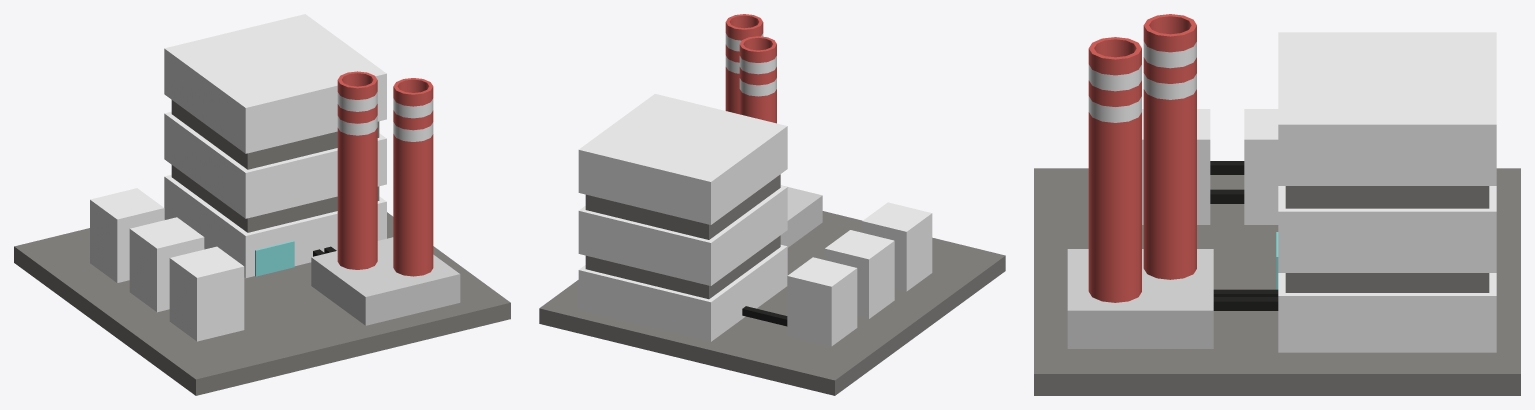
File: power2.glb
3 views of the same model, side by side, from view 1: azimuth 30°, elevation 25°; view 2: azimuth 150°, elevation 25°; view 3: azimuth 270°, elevation 25° (orthographic). The views are drawn at different scales.
Parts seen in each view (by area): view 1: Cube, Cube_3, Cube_2, Pipe, Pipe__1_, Power_Generation_Thing, Cube_1, Generator_Storage_3, Generator_Storage_2, Generator_Storage_1, Cut_2, Cut (+1 smaller); view 2: Cube, Cube_3, Cube_2, Cube_1, Generator_Storage_1, Generator_Storage_3, Generator_Storage_2, Pipe, Cut_2, Cut, Pipe__1_, Power_Generation_Thing (+1 smaller); view 3: Cube, Cube_3, Cube_2, Pipe__1_, Pipe, Cube_1, Power_Generation_Thing, Cut_2, Cut, Generator_Storage_2, Generator_Storage_3, Cable_2 (+3 smaller).
Boxes of the visible parts, x1,y1,x2,y2 form: Cube: [14, 212, 510, 395]; Cube_3: [164, 14, 386, 153]; Cube_2: [164, 111, 386, 218]; Pipe: [337, 71, 377, 269]; Pipe__1_: [393, 78, 433, 276]; Power_Generation_Thing: [311, 237, 460, 325]; Cube_1: [164, 174, 386, 277]; Generator_Storage_3: [169, 246, 244, 341]; Generator_Storage_2: [129, 217, 204, 312]; Generator_Storage_1: [90, 188, 164, 282]; Cut_2: [171, 100, 379, 169]; Cut: [171, 165, 379, 232]; Cube: [539, 211, 1005, 395]; Cube_3: [578, 94, 787, 224]; Cube_2: [578, 185, 787, 285]; Cube_1: [578, 245, 787, 341]; Generator_Storage_1: [787, 257, 857, 346]; Generator_Storage_3: [862, 202, 932, 291]; Generator_Storage_2: [824, 230, 894, 318]; Pipe: [739, 36, 776, 123]; Cut_2: [585, 174, 780, 239]; Cut: [585, 235, 780, 299]; Pipe__1_: [725, 14, 763, 114]; Power_Generation_Thing: [780, 185, 822, 247]; Cube: [1034, 168, 1520, 395]; Cube_3: [1278, 32, 1496, 185]; Cube_2: [1278, 186, 1496, 272]; Pipe__1_: [1088, 37, 1141, 302]; Pipe: [1143, 14, 1196, 279]; Cube_1: [1278, 273, 1496, 352]; Power_Generation_Thing: [1067, 249, 1213, 348]; Cut_2: [1285, 186, 1489, 208]; Cut: [1285, 273, 1489, 292]; Generator_Storage_2: [1244, 109, 1278, 224]; Generator_Storage_3: [1142, 109, 1210, 224]; Cable_2: [1213, 297, 1278, 310].
Bounding box in the file's own units: 1 × 0.6889 × 1.
